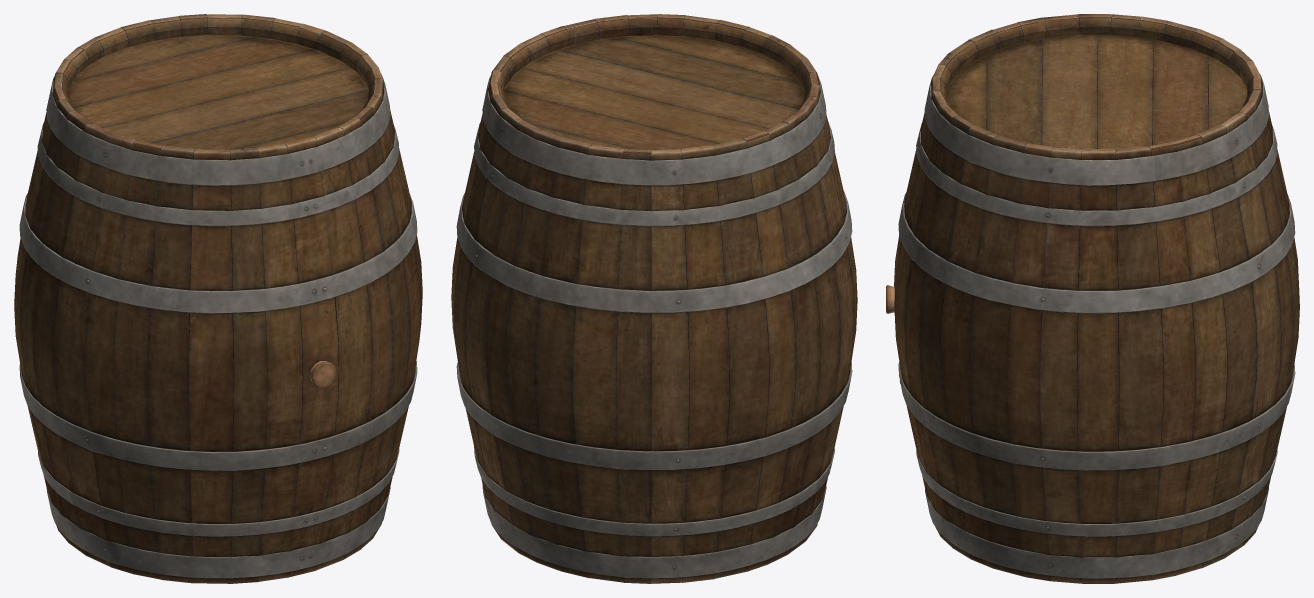
Rendered from wine_barrel_01.glb.
3 views of the same model, side by side, from view 1: azimuth 30°, elevation 25°; view 2: azimuth 150°, elevation 25°; view 3: azimuth 270°, elevation 25° (orthographic).
Visible parts, largest first — view 1: wine_barrel_01, wine_barrel_01_Lid, wine_barrel_01_bung; view 2: wine_barrel_01, wine_barrel_01_Lid; view 3: wine_barrel_01, wine_barrel_01_Lid.
Part boxes in pixels (<box>): wine_barrel_01: <box>14,14,422,583</box>; wine_barrel_01_Lid: <box>67,35,368,149</box>; wine_barrel_01_bung: <box>310,361,336,388</box>; wine_barrel_01: <box>451,14,857,583</box>; wine_barrel_01_Lid: <box>503,35,805,152</box>; wine_barrel_01: <box>894,14,1299,583</box>; wine_barrel_01_Lid: <box>946,35,1247,149</box>.
Size of the model in its own units: 0.7419 by 0.8713 by 0.756.
Materials: 1 (1 with a texture image).
